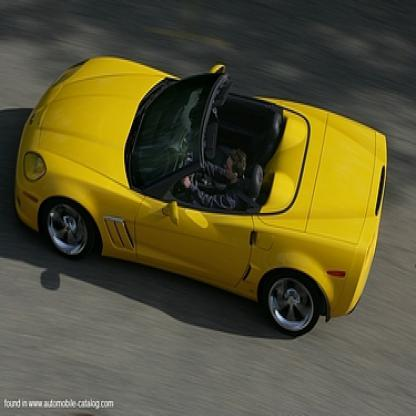Vehicle: (17, 56, 388, 338)
